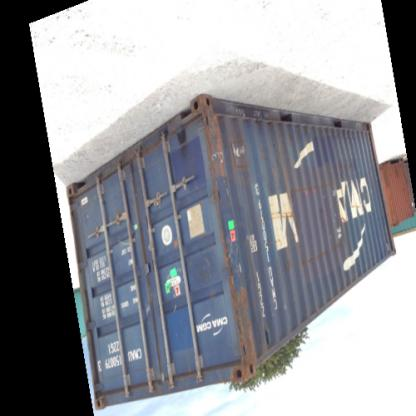Damage: (216, 220, 262, 368), (197, 106, 226, 184), (253, 117, 319, 141), (295, 246, 349, 270), (281, 182, 347, 201), (229, 134, 253, 176), (146, 372, 194, 392), (168, 126, 192, 162), (327, 126, 370, 146), (136, 284, 156, 323), (258, 207, 300, 225), (75, 196, 97, 228), (382, 242, 394, 260), (170, 306, 184, 321)
